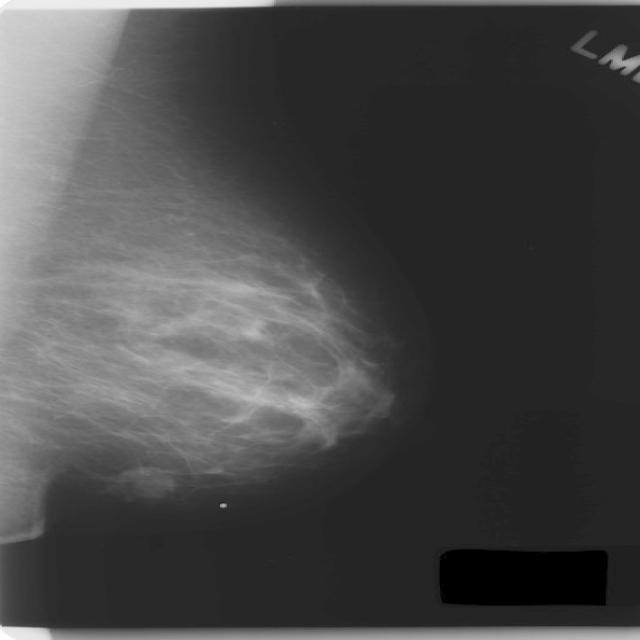tumour: (101, 466, 177, 499)
